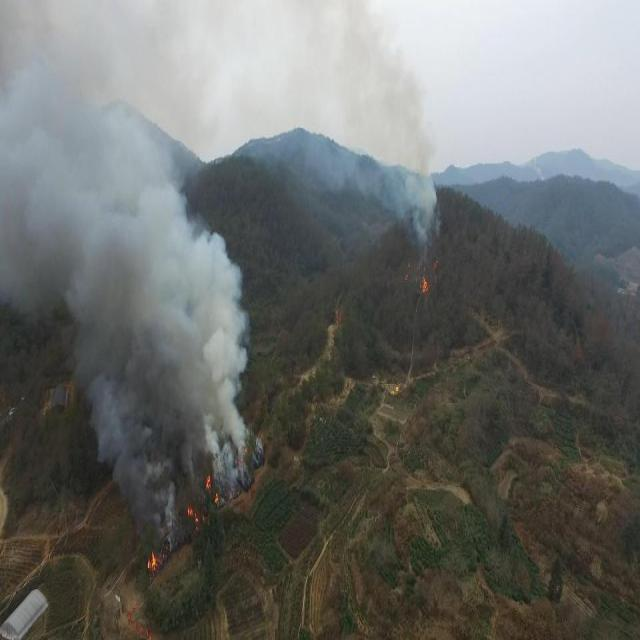Fire: (136, 440, 257, 571), (402, 244, 442, 298)
Smoke: (0, 0, 269, 580), (330, 1, 447, 306)
